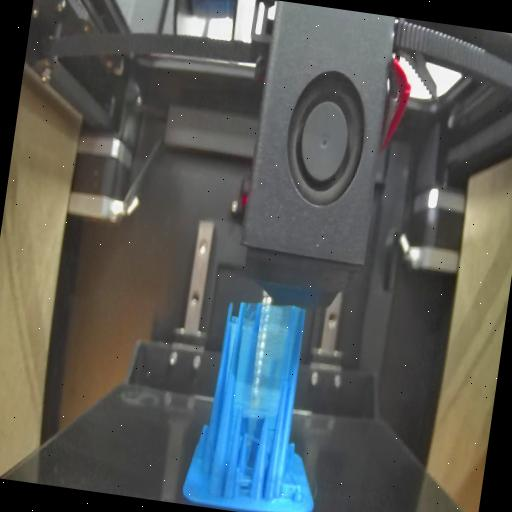stringing: (232, 298, 298, 422), (236, 429, 262, 504), (278, 482, 303, 506)
